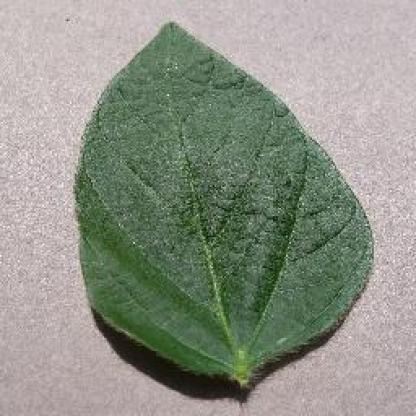soy: (68, 20, 382, 410)
